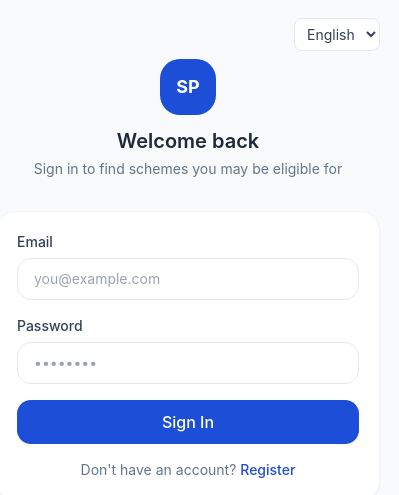
Scenario: translated forms and validation › re-renders text when the language changes
expect the heading "Welcome back" is shown: met, box x1=117 y1=128 x2=259 y2=152
Select "हिन्दी" in the dropdown at (337, 34), box x1=294 y1=18 x2=380 y2=50
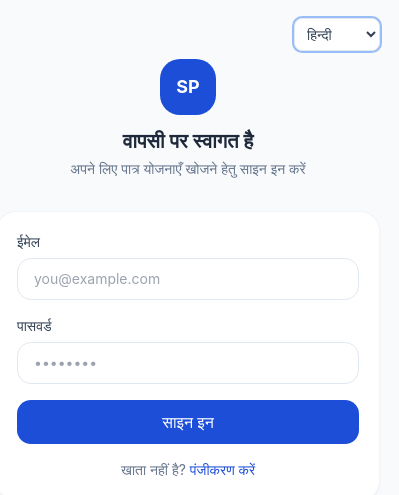
expect the heading "वापसी पर स्वागत है" is shown: met, box x1=123 y1=128 x2=253 y2=152
